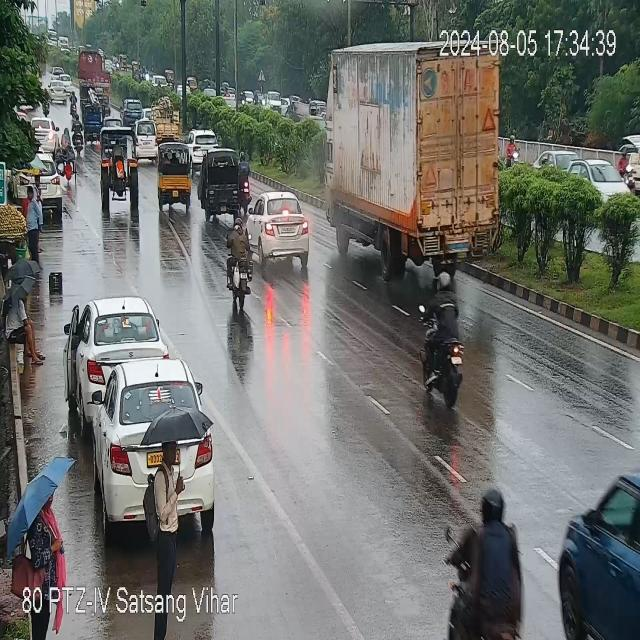2-wheelers: (451, 492, 531, 638), (413, 287, 470, 403), (220, 223, 256, 313), (619, 143, 637, 190), (240, 152, 250, 208), (74, 110, 81, 152)
auto: (199, 147, 238, 213), (157, 144, 196, 206), (55, 125, 77, 181), (81, 93, 102, 139)
car: (78, 362, 218, 539), (554, 479, 636, 640), (70, 297, 170, 399), (250, 192, 320, 264), (540, 145, 630, 198), (188, 127, 222, 163), (132, 120, 161, 161), (46, 158, 62, 221)
pedestrian: (145, 434, 189, 578), (20, 490, 63, 588), (7, 281, 43, 363), (21, 183, 43, 263)
truck: (321, 38, 512, 275), (98, 128, 138, 223), (77, 51, 107, 106)
